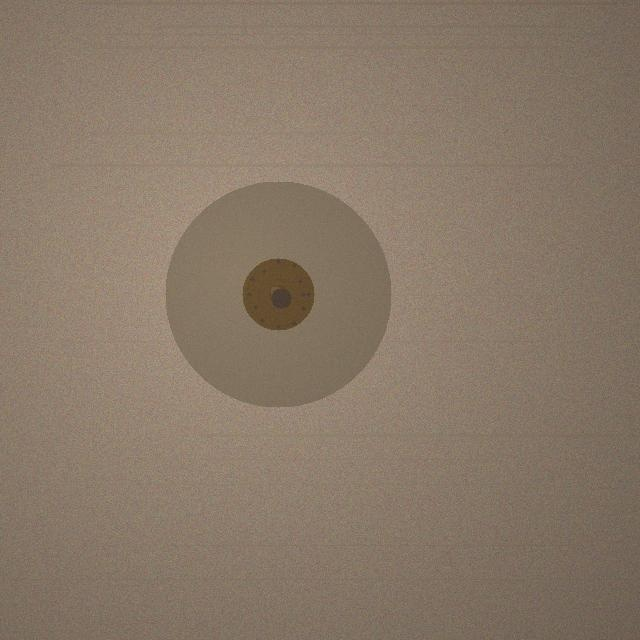cold_weld: (165, 181, 391, 407)
